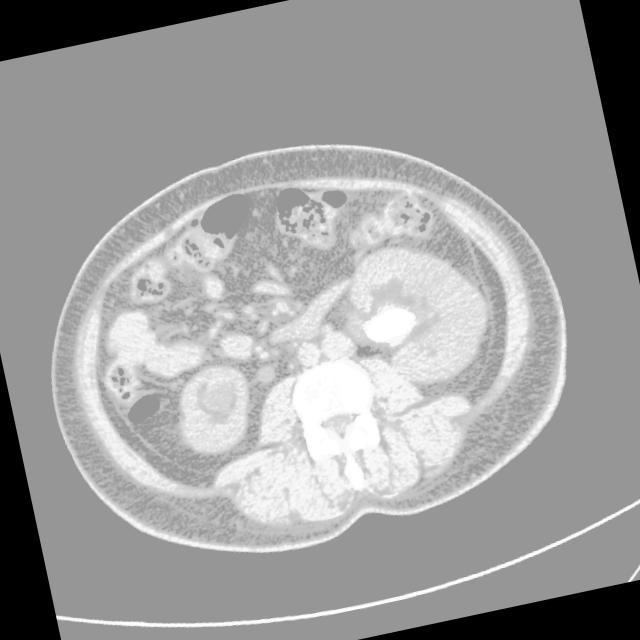STONE: (40, 134, 498, 461)
